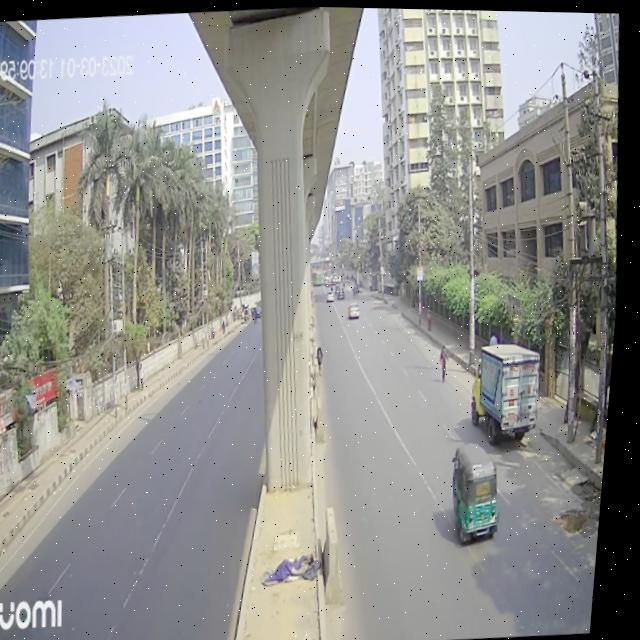cng: (451, 437, 515, 542)
